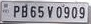character: (20, 5, 28, 18), (70, 6, 78, 19), (46, 5, 53, 19), (13, 5, 20, 18), (29, 5, 36, 18), (37, 5, 44, 18), (78, 6, 85, 19), (55, 6, 62, 18), (63, 6, 70, 18)
